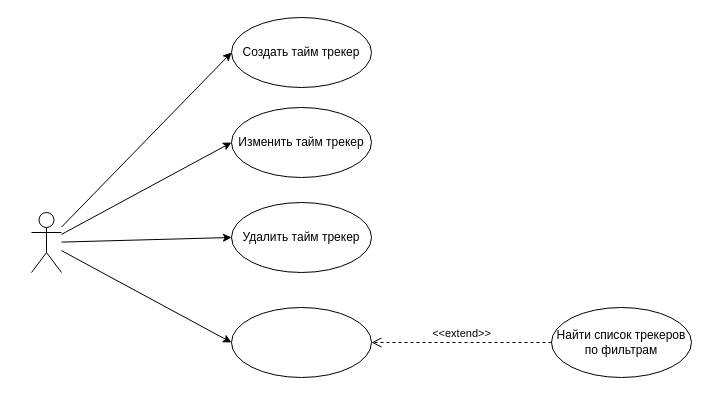
This 709x395 diagram has some shape labels left out. Here are the shapes that lost their labels. From the top down, the centre of each, then its label:
At (x=46, y=242): "Сотрудник".
At (x=301, y=342): "Посмотреть список тайм трекеров по проекту".
